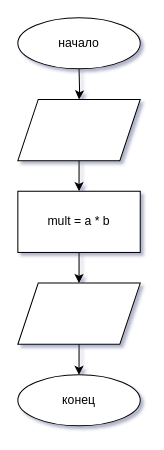
Some shapes in this 164 by 450 pixel diagram are drawn without their labels. Here are the shapes that lost their labels. From the top down, the box of each, then its label:
(17, 98, 140, 161): ввод а, b
(17, 282, 140, 344): вывод mult
